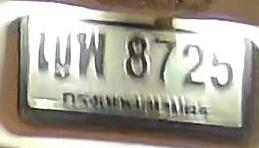number: (33, 20, 240, 94)
province: (58, 87, 207, 123)
